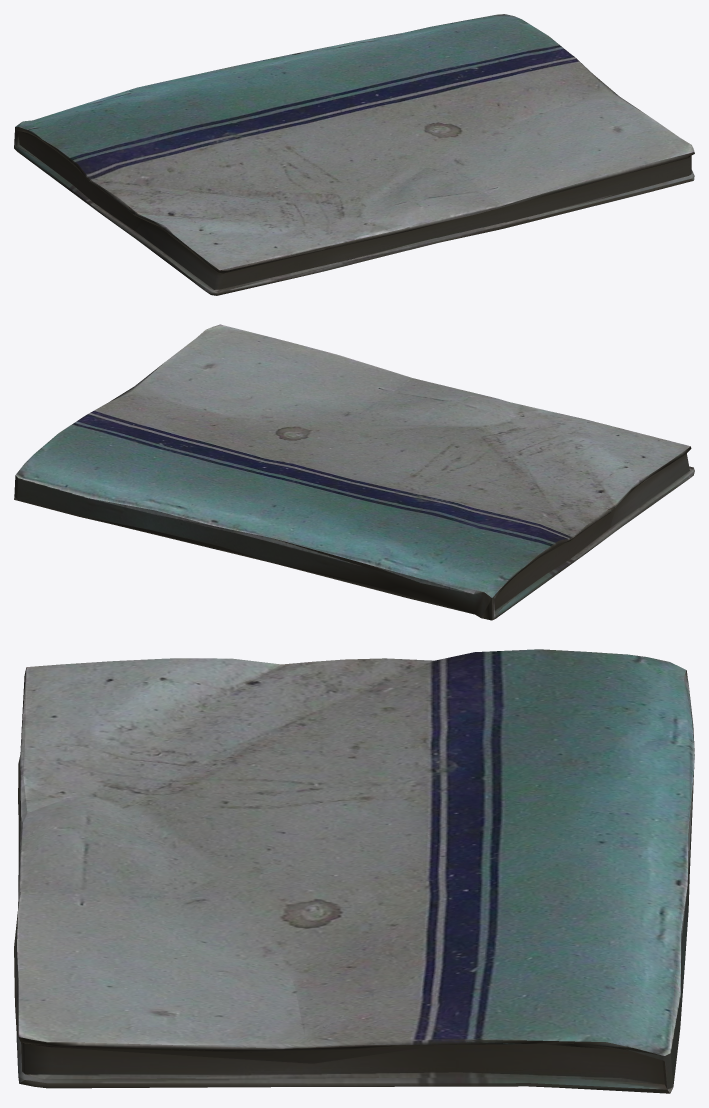
Rendered from SM_Asset_Prop_Book_01_A.fbx.
3 renders of one model, top to bottom at view 1: azimuth 30°, elevation 25°; view 2: azimuth 150°, elevation 25°; view 3: azimuth 270°, elevation 25°, orthographic. The views are drawn at different scales.
Visible parts, largest first — view 1: SM_Asset_Prop_Book_01_A; view 2: SM_Asset_Prop_Book_01_A; view 3: SM_Asset_Prop_Book_01_A.
Boxes of the visible parts, box(x1,y1,x2,y2) form: SM_Asset_Prop_Book_01_A: box(14, 14, 694, 295); SM_Asset_Prop_Book_01_A: box(14, 324, 694, 620); SM_Asset_Prop_Book_01_A: box(14, 649, 694, 1093).
Size of the model in its own units: 35.29 by 2.59 by 26.03.
